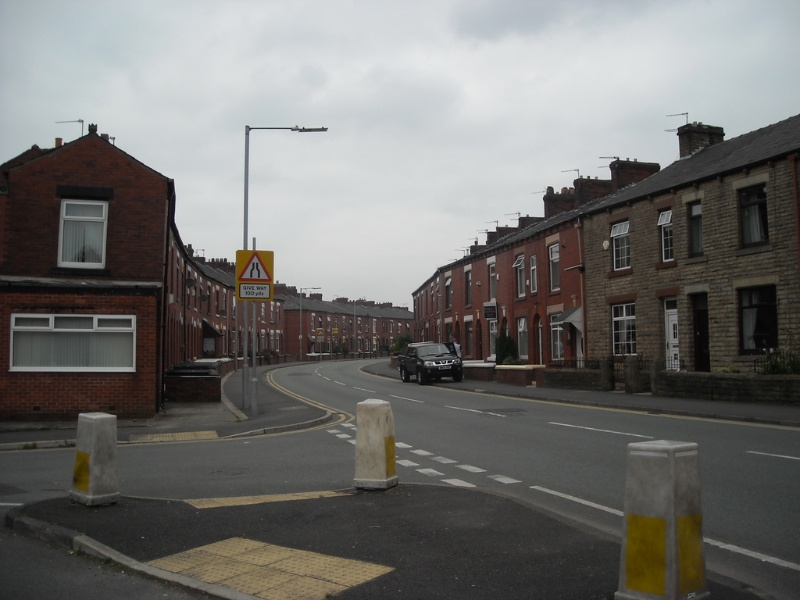give_way: (236, 251, 276, 301)
